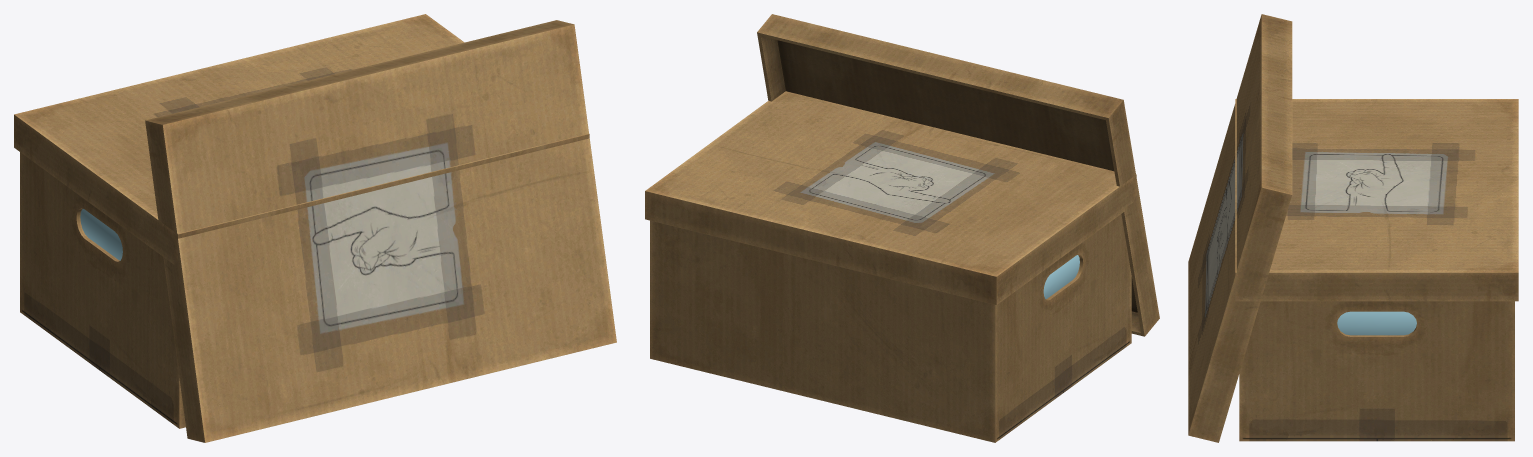
The model's file is cocaine_box.fbx.
3 views of the same model, side by side, from view 1: azimuth 30°, elevation 25°; view 2: azimuth 150°, elevation 25°; view 3: azimuth 270°, elevation 25° (orthographic). The views are drawn at different scales.
Parts seen in each view (by area): view 1: top_open, top_closed, box_base, 4; view 2: box_base, top_closed, top_open, 4; view 3: top_closed, box_base, top_open, 3.
Part boxes in pixels (<box>): top_open: <box>145,20,616,442</box>; top_closed: <box>14,14,589,264</box>; box_base: <box>20,152,185,428</box>; 4: <box>80,209,122,260</box>; box_base: <box>650,214,1131,442</box>; top_closed: <box>645,91,1136,304</box>; top_open: <box>757,14,1159,336</box>; 4: <box>1043,255,1079,299</box>; top_closed: <box>1235,99,1518,301</box>; box_base: <box>1239,301,1514,441</box>; top_open: <box>1188,14,1292,442</box>; 3: <box>1337,311,1416,335</box>.
Bounding box in the file's own units: 3220 × 2209 × 2589.
